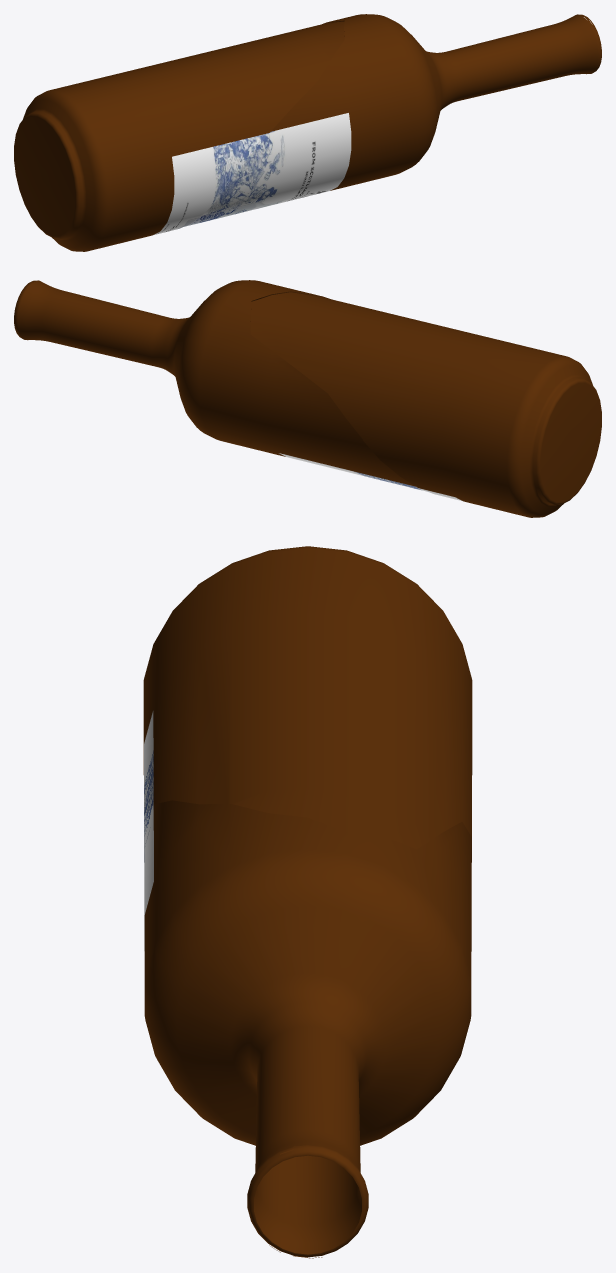
The model's file is WineBottleBreak.glb.
The picture shows the model from 3 angles, top to bottom: view 1: azimuth 30°, elevation 25°; view 2: azimuth 150°, elevation 25°; view 3: azimuth 270°, elevation 25°; orthographic projection. The views are drawn at different scales.
Parts seen in each view (by area): view 1: WineBottleBottom, WineBottleTop.001; view 2: WineBottleBottom, WineBottleTop.001; view 3: WineBottleTop.001, WineBottleBottom.
Boxes of the visible parts, x1=… form: WineBottleBottom: x1=14, y1=21, x2=586, y2=251; WineBottleTop.001: x1=184, y1=14, x2=601, y2=226; WineBottleBottom: x1=27, y1=281, x2=601, y2=517; WineBottleTop.001: x1=14, y1=280, x2=426, y2=491; WineBottleTop.001: x1=144, y1=800, x2=471, y2=1257; WineBottleBottom: x1=143, y1=546, x2=472, y2=1258.
Bounding box in the file's own units: 3.19 × 0.8447 × 0.8365.
2 materials, 1 textured.
